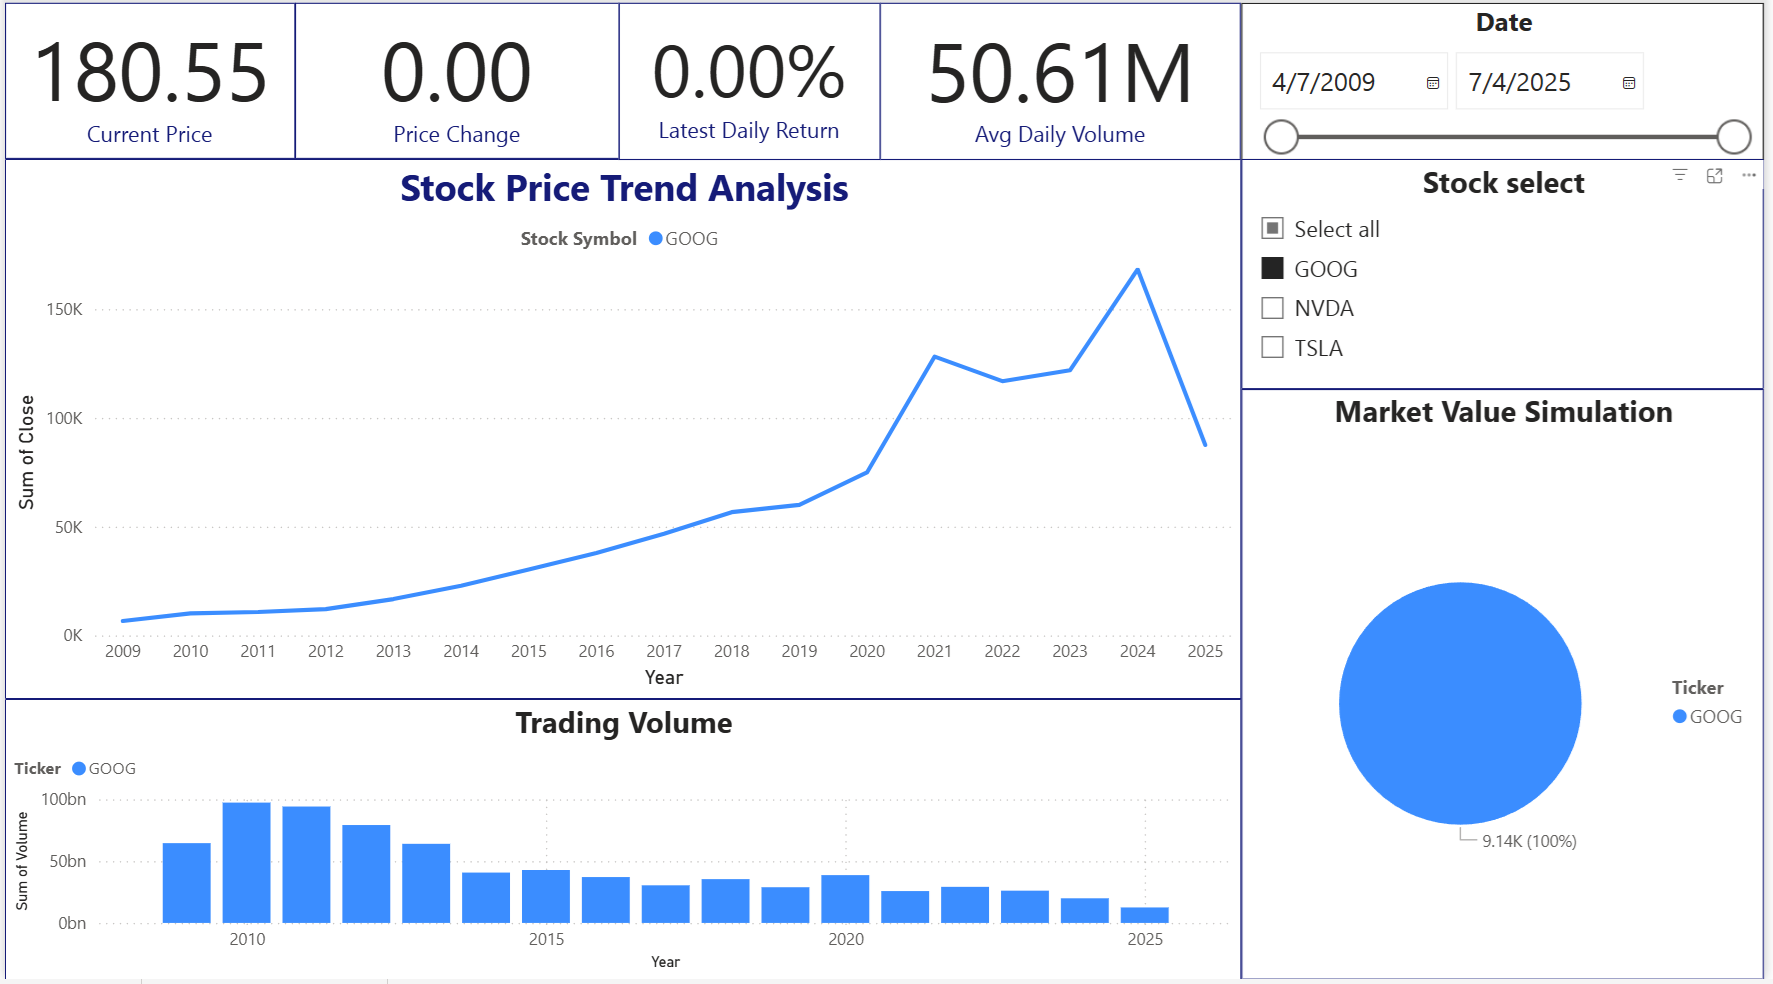

Layout of this report page (visuals, bound fields, positions):
{"tool":"powerbi","page":{"name":"Executive Dashboard","canvas":[1280,720],"ordinal":0},"visuals":[{"type":"lineChart","title":"Stock Price Trend Analysis","fields":{"Category":["Prices.Date.Variation.Date Hierarchy.Year","Prices.Date.Variation.Date Hierarchy.Quarter","Prices.Date.Variation.Date Hierarchy.Month","Prices.Date.Variation.Date Hierarchy.Day"],"Series":["Prices.Ticker"],"Y":["Sum(Prices.Close)"]},"box":[0,123.9,899.4,392.6],"z":0},{"type":"slicer","title":"Date","fields":{"Values":["Prices.Date"]},"box":[899.4,9.8,380.4,114.1],"z":1000},{"type":"card","fields":{"Values":["Prices.Current Price"]},"box":[0,9.6,211.3,113.9],"z":2000},{"type":"card","fields":{"Values":["Prices.Price Change"]},"box":[211.3,9.7,236,113.9],"z":3000},{"type":"card","fields":{"Values":["Prices.Avg Daily Volume"]},"box":[636.8,9.6,262.6,114.1],"z":4000},{"type":"columnChart","title":"Trading Volume","fields":{"Category":["Prices.Date.Variation.Date Hierarchy.Year","Prices.Date.Variation.Date Hierarchy.Quarter","Prices.Date.Variation.Date Hierarchy.Month","Prices.Date.Variation.Date Hierarchy.Day"],"Y":["Sum(Prices.Volume)"],"Series":["Prices.Ticker"]},"box":[0,516,898.8,204.5],"z":5000},{"type":"pieChart","title":"Market Value Simulation","fields":{"Category":["Prices.Ticker"],"Y":["Prices.Market Value Simulation"]},"box":[899.4,290.8,380.4,429.5],"z":6000},{"type":"card","fields":{"Values":["Prices.Latest Daily Return"]},"box":[446.6,9.6,190.2,114.1],"z":7000},{"type":"slicer","title":"Stock select","fields":{"Values":["Prices.Ticker"]},"box":[899.4,123.9,380.4,166.9],"z":8000}]}

Visuals, with their boxes in screenshot pixels (x1, y1, x2, y2), scaled from the page's 1280x720 canvas onto the 1773x984 screenshot:
"Stock Price Trend Analysis" lineChart: (0, 169, 1246, 706)
"Date" slicer: (1246, 13, 1772, 169)
card - Prices.Current Price: (0, 13, 293, 169)
card - Prices.Price Change: (293, 13, 620, 169)
card - Prices.Avg Daily Volume: (882, 13, 1246, 169)
"Trading Volume" columnChart: (0, 705, 1245, 983)
"Market Value Simulation" pieChart: (1246, 397, 1772, 983)
card - Prices.Latest Daily Return: (619, 13, 882, 169)
"Stock select" slicer: (1246, 169, 1772, 397)
